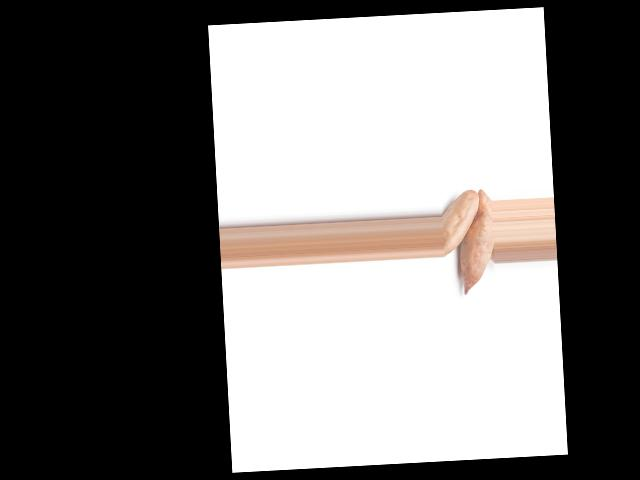sweet_potato: (439, 189, 481, 260)
